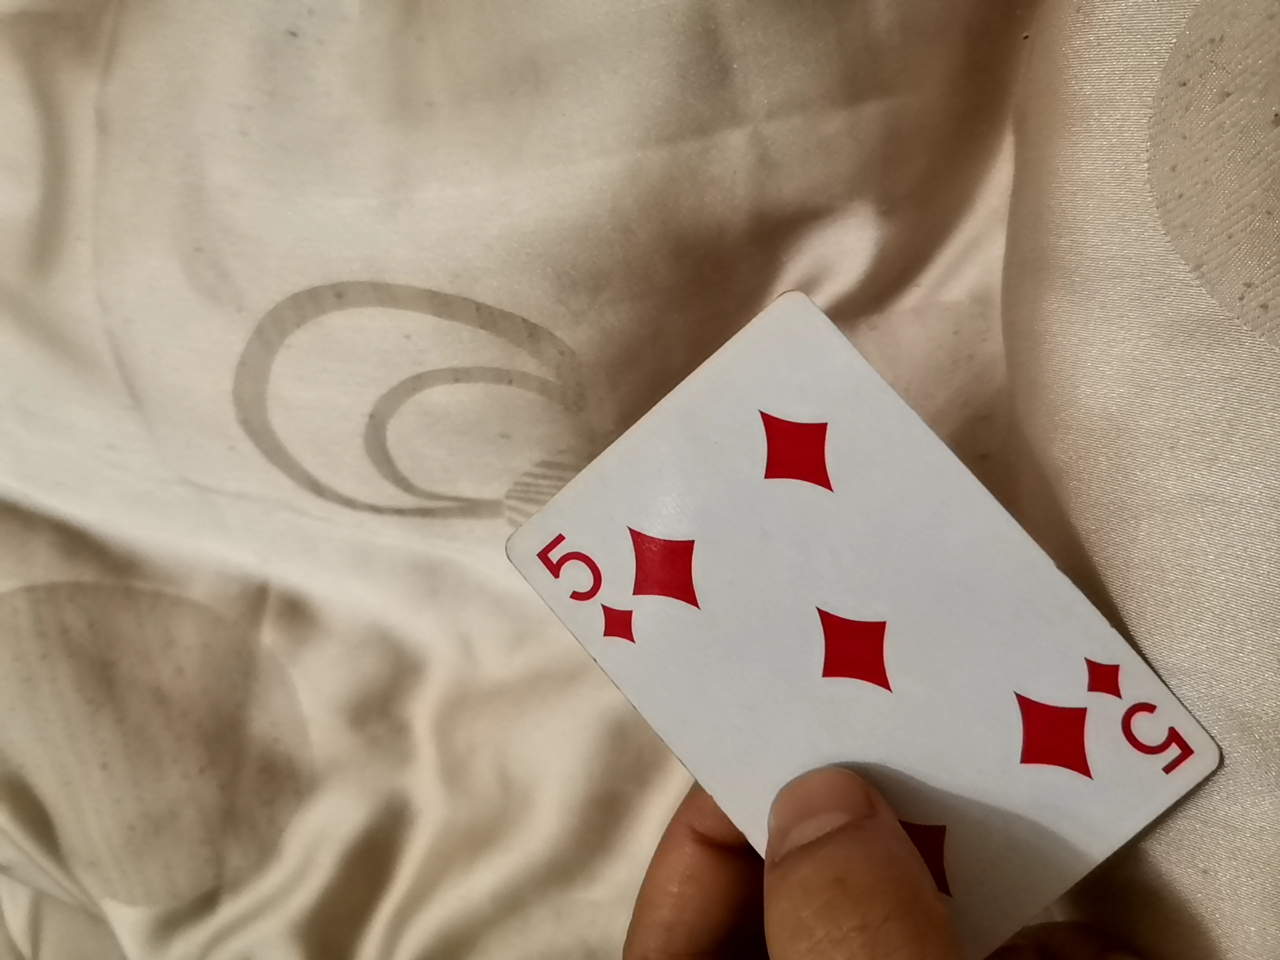fk 5: (505, 287, 1226, 852)
